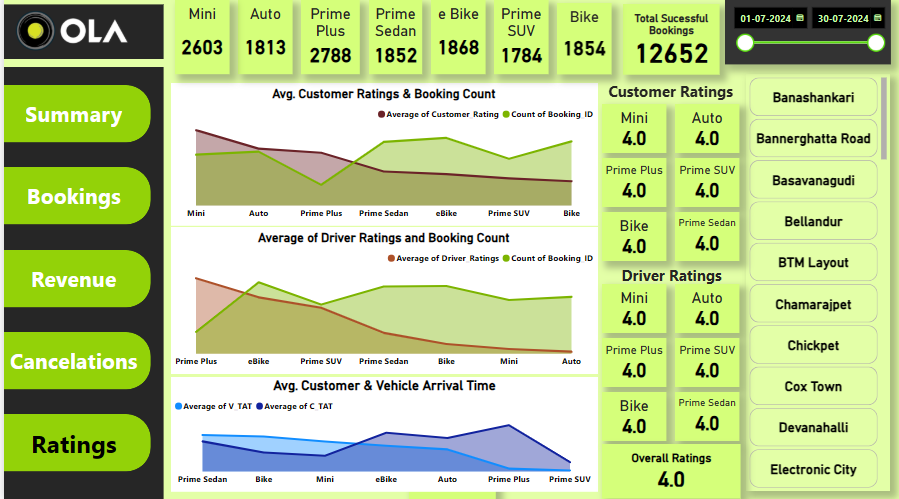

The dashboard page shown, as its layout file describes it:
{"tool":"powerbi","page":{"name":"Ratings","canvas":[1280,720],"ordinal":5},"visuals":[{"type":"group","id":"g1","title":"Group 1","box":[0,102,228,618],"z":0,"group":"g2"},{"type":"shape","box":[0,102,228,618],"z":0,"group":"g1"},{"type":"card","title":"Mini","fields":{"Values":["Avg(July.Driver_Ratings)"]},"box":[854,412,92,70],"z":0,"group":"g4"},{"type":"image","box":[0,0,228,102],"z":1000,"group":"g2"},{"type":"areaChart","title":"Avg. Customer Ratings & Booking Count","fields":{"Category":["July.Vehicle_Type"],"Y":["Avg(July.Customer_Rating)"],"Y2":["CountNonNull(July.Booking_ID)"]},"box":[238,124,610,204],"z":1000},{"type":"actionButton","box":[0,363,209.7,82],"z":1000,"group":"g1"},{"type":"card","title":"Auto","fields":{"Values":["Avg(July.Driver_Ratings)"]},"box":[958,412,92,70],"z":1000,"group":"g4"},{"type":"card","title":"Total Sucessful Bookings","fields":{"Values":["CountNonNull(July.Booking_ID)"]},"box":[883.7,11.8,138.2,100.7],"z":2000},{"type":"actionButton","box":[0,245.5,209.7,82],"z":2000,"group":"g1"},{"type":"card","title":"Prime Plus","fields":{"Values":["Avg(July.Driver_Ratings)"]},"box":[854,489,92,70],"z":2000,"group":"g4"},{"type":"slicer","title":"Date","fields":{"Values":["July.Date"]},"box":[1030,5,236.7,91.7],"z":3000},{"type":"actionButton","box":[0,128,209.7,82],"z":3000,"group":"g1"},{"type":"card","title":"Prime SUV","fields":{"Values":["Avg(July.Driver_Ratings)"]},"box":[958,489,92,70],"z":3000,"group":"g4"},{"type":"areaChart","title":"Average of Driver Ratings and Booking Count","fields":{"Category":["July.Vehicle_Type"],"Y":["Avg(July.Driver_Ratings)"],"Y2":["CountNonNull(July.Booking_ID)"]},"box":[238,330,610,210],"z":4000},{"type":"actionButton","box":[0,480.5,209.7,82],"z":4000,"group":"g1"},{"type":"card","title":"Bike","fields":{"Values":["Avg(July.Driver_Ratings)"]},"box":[854,566,92,70],"z":4000,"group":"g4"},{"type":"card","title":"Auto ","fields":{"Values":["CountNonNull(July.Booking_ID)"]},"box":[334,6,78,106],"z":5000},{"type":"card","title":"Prime Sedan","fields":{"Values":["Avg(July.Driver_Ratings)"]},"box":[958,566,92,70],"z":5000,"group":"g4"},{"type":"actionButton","box":[0,598,209.7,82],"z":5000,"group":"g1"},{"type":"card","title":"Avg. Drivers Ratings","fields":{"Values":["Avg(July.Driver_Ratings)"]},"box":[578,602,124,118],"z":6000},{"type":"card","title":"Mini","fields":{"Values":["CountNonNull(July.Booking_ID)"]},"box":[244,6,78,106],"z":7000},{"type":"areaChart","title":"Avg. Customer & Vehicle Arrival Time","fields":{"Category":["July.Vehicle_Type"],"Y":["Avg(July.V_TAT)"],"Y2":["Avg(July.C_TAT)"]},"box":[238,544,610,164],"z":8000},{"type":"card","title":"Prime Plus","fields":{"Values":["CountNonNull(July.Booking_ID)"]},"box":[424.7,6,84,106],"z":9000},{"type":"group","id":"g2","title":"Group 2","box":[0,0,228,720],"z":10000},{"type":"card","title":"Prime Sedan","fields":{"Values":["CountNonNull(July.Booking_ID)"]},"box":[521,6,76,106],"z":11000},{"type":"card","title":"e Bike","fields":{"Values":["CountNonNull(July.Booking_ID)"]},"box":[610,6,78,106],"z":12000},{"type":"card","title":"Prime SUV","fields":{"Values":["CountNonNull(July.Booking_ID)"]},"box":[700,6,78,106],"z":13000},{"type":"card","title":"Bike","fields":{"Values":["CountNonNull(July.Booking_ID)"]},"box":[790,10,78,102],"z":14000},{"type":"group","id":"g3","title":"Group 3","box":[854,154,196,224],"z":15000},{"type":"card","title":"Mini","fields":{"Values":["Avg(July.Customer_Rating)"]},"box":[854,154,92,70],"z":16000,"group":"g3"},{"type":"group","id":"g4","title":"Group 3","box":[854,412,196,224],"z":16000},{"type":"textbox","box":[854,116,196,46],"z":17000},{"type":"textbox","box":[856,378,196,46],"z":18000},{"type":"card","title":"Auto","fields":{"Values":["Avg(July.Customer_Rating)"]},"box":[958,154,92,70],"z":19000,"group":"g3"},{"type":"card","title":"Overall Ratings","fields":{"Values":["July.overallRatings"]},"box":[853.7,639.5,198.2,78.2],"z":19000},{"type":"card","title":"Prime Plus","fields":{"Values":["Avg(July.Customer_Rating)"]},"box":[854,231,92,70],"z":19001,"group":"g3"},{"type":"card","title":"Prime SUV","fields":{"Values":["Avg(July.Customer_Rating)"]},"box":[958,231,92,70],"z":19002,"group":"g3"},{"type":"card","title":"Bike","fields":{"Values":["Avg(July.Customer_Rating)"]},"box":[854,308,92,70],"z":19003,"group":"g3"},{"type":"card","title":"Prime Sedan","fields":{"Values":["Avg(July.Customer_Rating)"]},"box":[958,308,92,70],"z":19004,"group":"g3"},{"type":"advancedSlicerVisual","fields":{"Values":["July.Pickup_Location"]},"box":[1060,112,206,596],"z":19500}]}

Visuals, with their boxes in screenshot pixels (x1, y1, x2, y2), scaled from the page's 1280x720 canvas onto the 899x499 screenshot:
"Group 1" group: x1=0, y1=71, x2=160, y2=498
shape: x1=0, y1=71, x2=160, y2=498
"Mini" card: x1=600, y1=286, x2=664, y2=334
image: x1=0, y1=0, x2=160, y2=71
"Avg. Customer Ratings & Booking Count" areaChart: x1=167, y1=86, x2=596, y2=227
actionButton: x1=0, y1=252, x2=147, y2=308
"Auto" card: x1=673, y1=286, x2=737, y2=334
"Total Sucessful Bookings" card: x1=621, y1=8, x2=718, y2=78
actionButton: x1=0, y1=170, x2=147, y2=227
"Prime Plus" card: x1=600, y1=339, x2=664, y2=387
"Date" slicer: x1=723, y1=3, x2=890, y2=67
actionButton: x1=0, y1=89, x2=147, y2=146
"Prime SUV" card: x1=673, y1=339, x2=737, y2=387
"Average of Driver Ratings and Booking Count" areaChart: x1=167, y1=229, x2=596, y2=374
actionButton: x1=0, y1=333, x2=147, y2=390
"Bike" card: x1=600, y1=392, x2=664, y2=441
"Auto " card: x1=235, y1=4, x2=289, y2=78
"Prime Sedan" card: x1=673, y1=392, x2=737, y2=441
actionButton: x1=0, y1=414, x2=147, y2=471
"Avg. Drivers Ratings" card: x1=406, y1=417, x2=493, y2=498
"Mini" card: x1=171, y1=4, x2=226, y2=78
"Avg. Customer & Vehicle Arrival Time" areaChart: x1=167, y1=377, x2=596, y2=491
"Prime Plus" card: x1=298, y1=4, x2=357, y2=78
"Group 2" group: x1=0, y1=0, x2=160, y2=498
"Prime Sedan" card: x1=366, y1=4, x2=419, y2=78
"e Bike" card: x1=428, y1=4, x2=483, y2=78
"Prime SUV" card: x1=492, y1=4, x2=546, y2=78
"Bike" card: x1=555, y1=7, x2=610, y2=78
"Group 3" group: x1=600, y1=107, x2=737, y2=262
"Mini" card: x1=600, y1=107, x2=664, y2=155
"Group 3" group: x1=600, y1=286, x2=737, y2=441
textbox: x1=600, y1=80, x2=737, y2=112
textbox: x1=601, y1=262, x2=739, y2=294
"Auto" card: x1=673, y1=107, x2=737, y2=155
"Overall Ratings" card: x1=600, y1=443, x2=739, y2=497
"Prime Plus" card: x1=600, y1=160, x2=664, y2=209
"Prime SUV" card: x1=673, y1=160, x2=737, y2=209
"Bike" card: x1=600, y1=213, x2=664, y2=262
"Prime Sedan" card: x1=673, y1=213, x2=737, y2=262
advancedSlicerVisual - July.Pickup_Location: x1=744, y1=78, x2=889, y2=491
